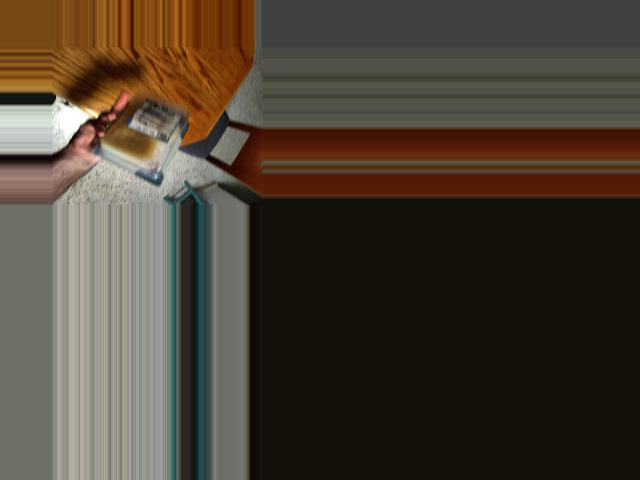cheese: (100, 98, 186, 169)
